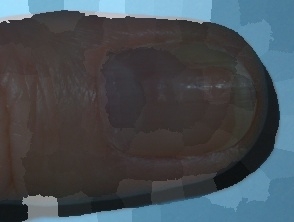Nail_psoriasis: (63, 19, 268, 183)
